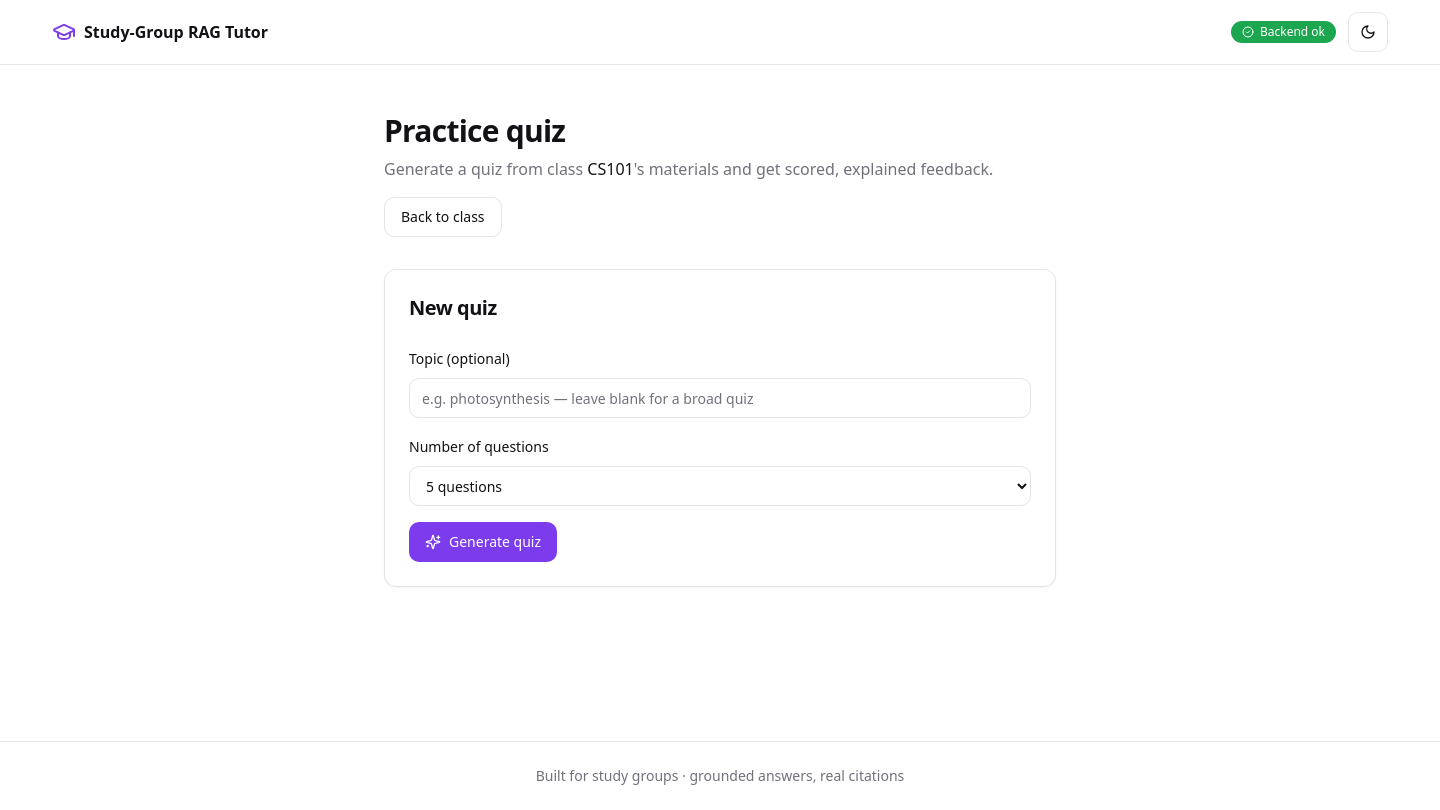
QuizPage › shows an error if generation fails
What coordinates should you click on to do the following:
click the button "Generate quiz"
I would click on:
 (483, 542)
Its box is [409,522,557,562].
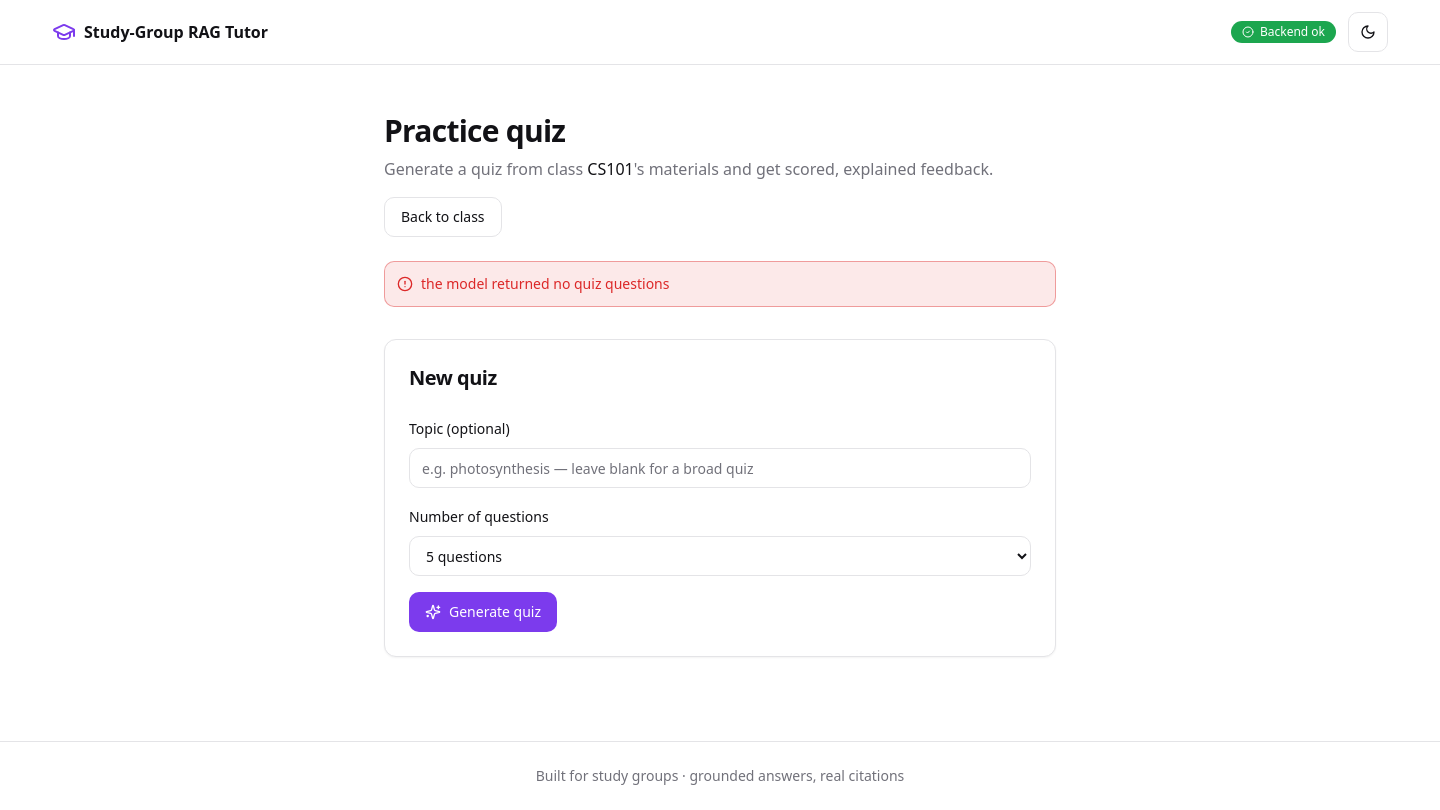
Expected: the text "the model returned no quiz questions" is shown, [384,261,1056,307]
